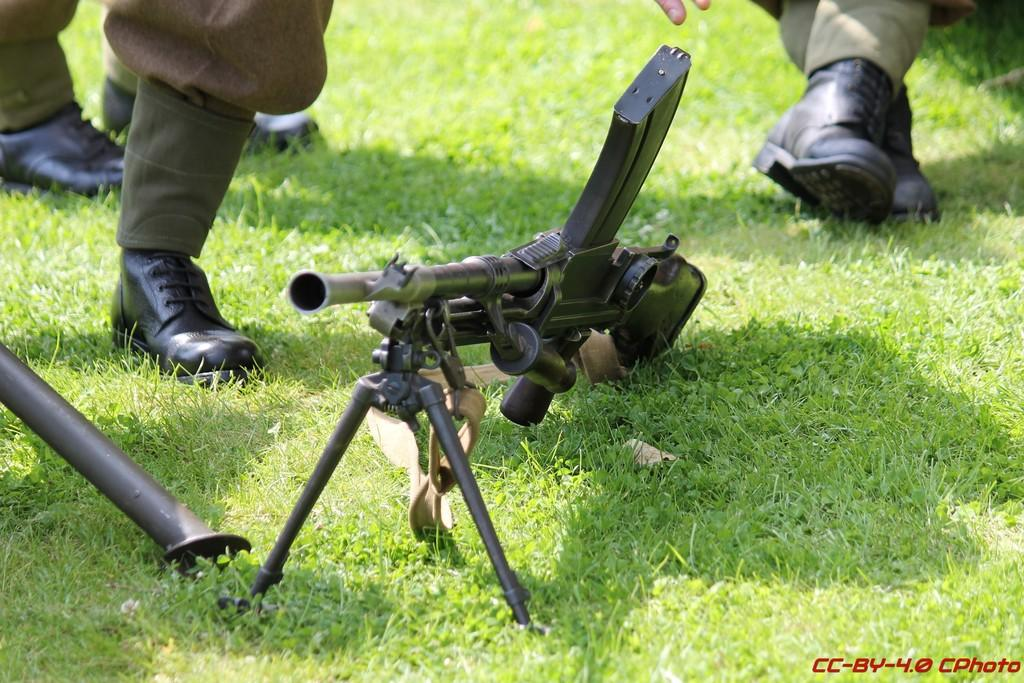Rifle: (217, 112, 690, 638)
